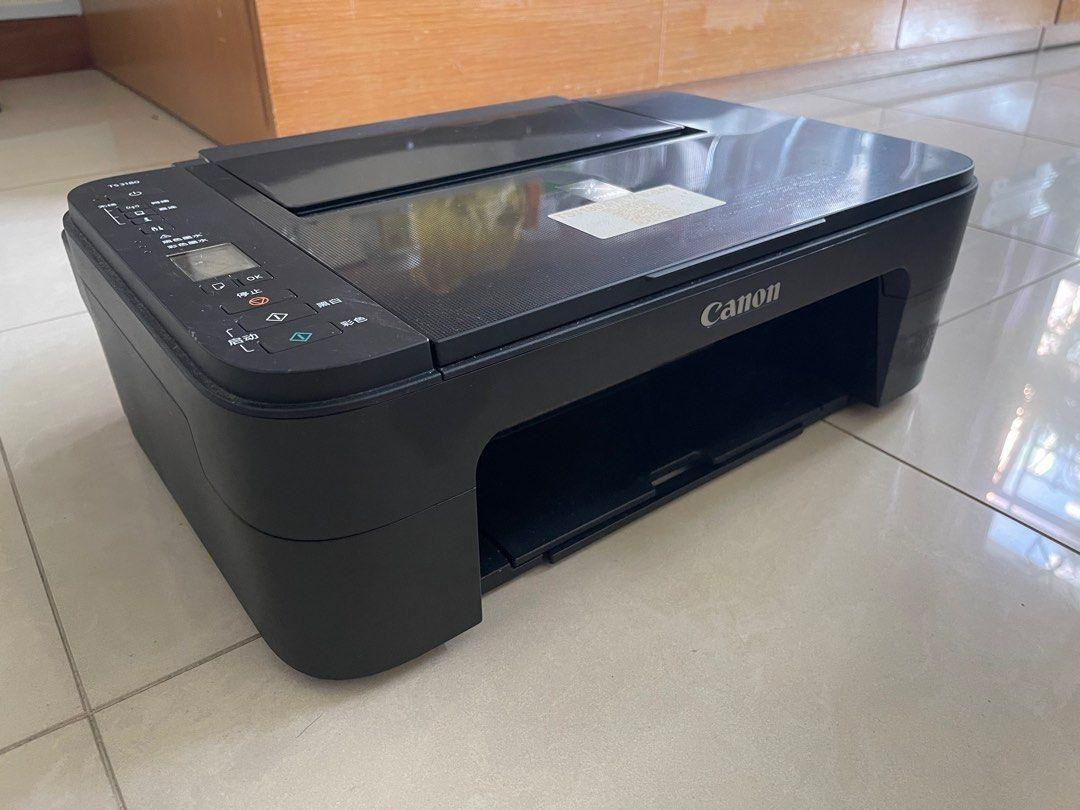Printer: (60, 88, 978, 681)
